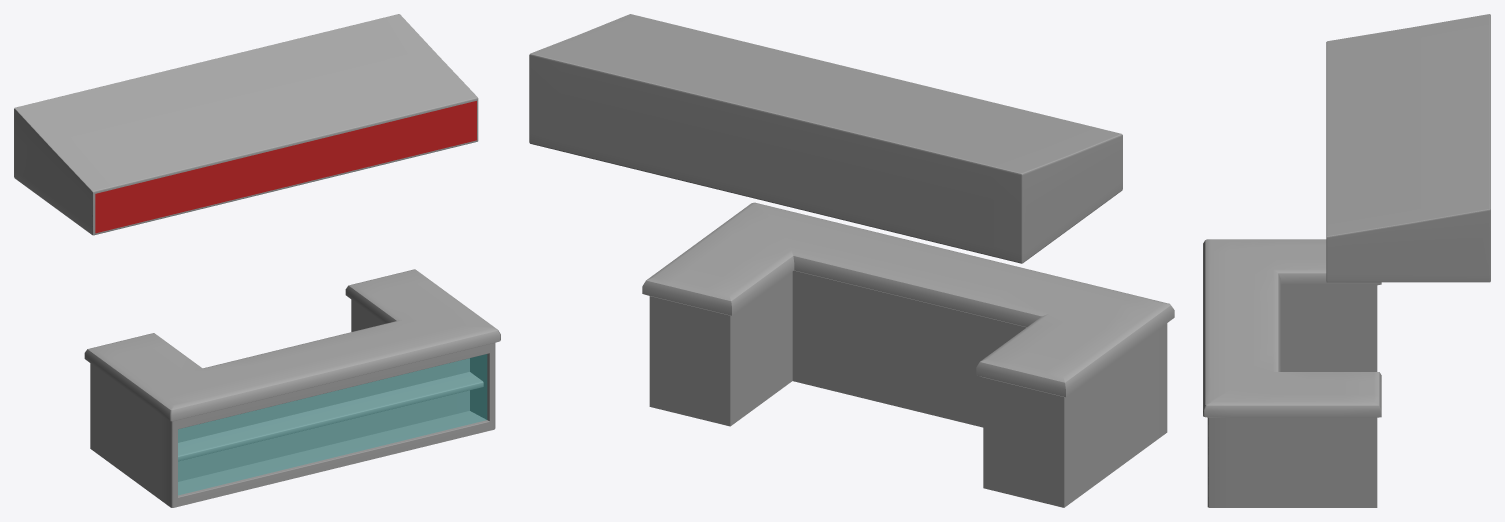
File: PrizeStand.fbx
The picture shows the model from 3 angles, left to right: view 1: azimuth 30°, elevation 25°; view 2: azimuth 150°, elevation 25°; view 3: azimuth 270°, elevation 25°; orthographic projection. The views are drawn at different scales.
Parts seen in each view (by area): view 1: polySurface40, polySurface41, polySurface39, polySurface42, pCube74; view 2: polySurface40, polySurface41; view 3: polySurface40, polySurface41.
Part boxes in pixels (x1,y1,x2,y2): polySurface40: (84, 269, 500, 507); polySurface41: (14, 14, 478, 235); polySurface39: (178, 354, 486, 494); polySurface42: (95, 101, 476, 233); pCube74: (178, 372, 483, 461); polySurface40: (642, 202, 1174, 507); polySurface41: (529, 14, 1122, 263); polySurface40: (1203, 239, 1381, 507); polySurface41: (1326, 14, 1490, 282).
Size of the model in its own units: 621 by 471 by 386.
